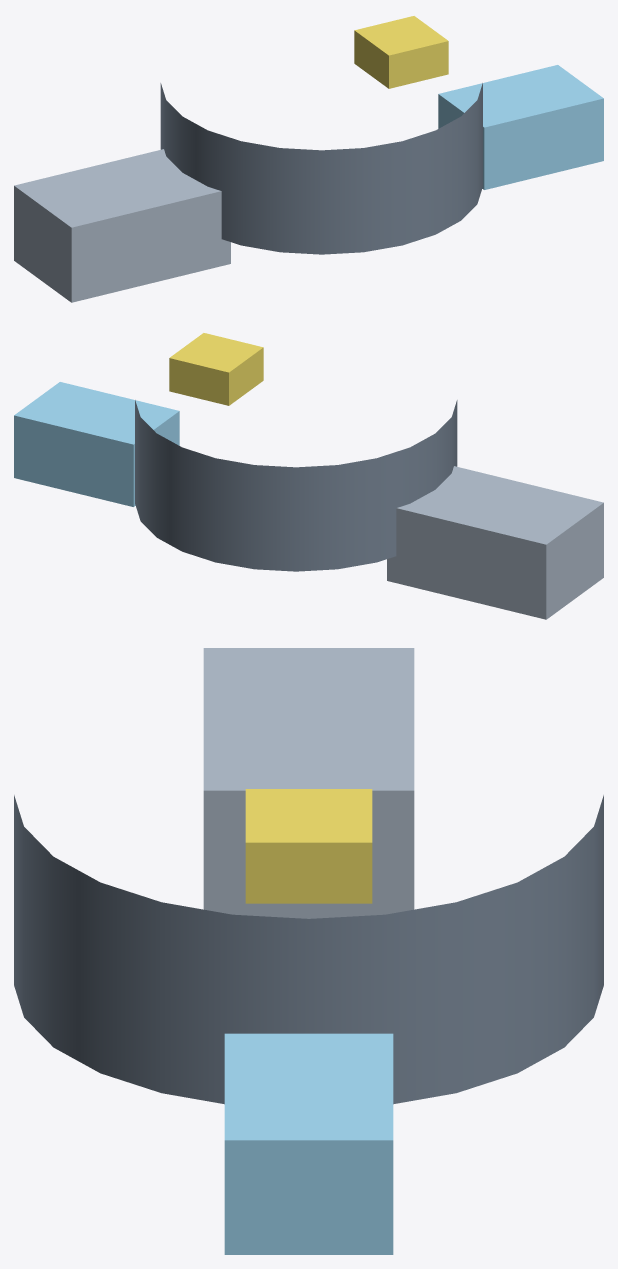
The model's file is galvanometer_half_deflection_resistance.glb.
The picture shows the model from 3 angles, top to bottom: view 1: azimuth 30°, elevation 25°; view 2: azimuth 150°, elevation 25°; view 3: azimuth 270°, elevation 25°; orthographic projection. The views are drawn at different scales.
Visible parts, largest first — view 1: MovingCoilGalvanometerHousing, HighResistanceDecadeBoxR, ShuntResistanceDecadeBoxS, TwoWayTappingKeySwitchK2; view 2: MovingCoilGalvanometerHousing, HighResistanceDecadeBoxR, ShuntResistanceDecadeBoxS, TwoWayTappingKeySwitchK2; view 3: MovingCoilGalvanometerHousing, HighResistanceDecadeBoxR, ShuntResistanceDecadeBoxS, TwoWayTappingKeySwitchK2.
Part boxes in pixels (box(x1,y1,x2,y2)): MovingCoilGalvanometerHousing: box(160, 83, 482, 254); HighResistanceDecadeBoxR: box(14, 149, 230, 302); ShuntResistanceDecadeBoxS: box(438, 65, 603, 189); TwoWayTappingKeySwitchK2: box(354, 16, 448, 88); MovingCoilGalvanometerHousing: box(135, 400, 457, 571); HighResistanceDecadeBoxR: box(387, 466, 603, 619); ShuntResistanceDecadeBoxS: box(14, 382, 179, 506); TwoWayTappingKeySwitchK2: box(169, 333, 263, 405); MovingCoilGalvanometerHousing: box(14, 795, 603, 1104); HighResistanceDecadeBoxR: box(203, 648, 414, 918); ShuntResistanceDecadeBoxS: box(224, 1033, 393, 1254); TwoWayTappingKeySwitchK2: box(245, 789, 372, 903).
Size of the model in its own units: 1.35 by 0.38 by 0.7.
